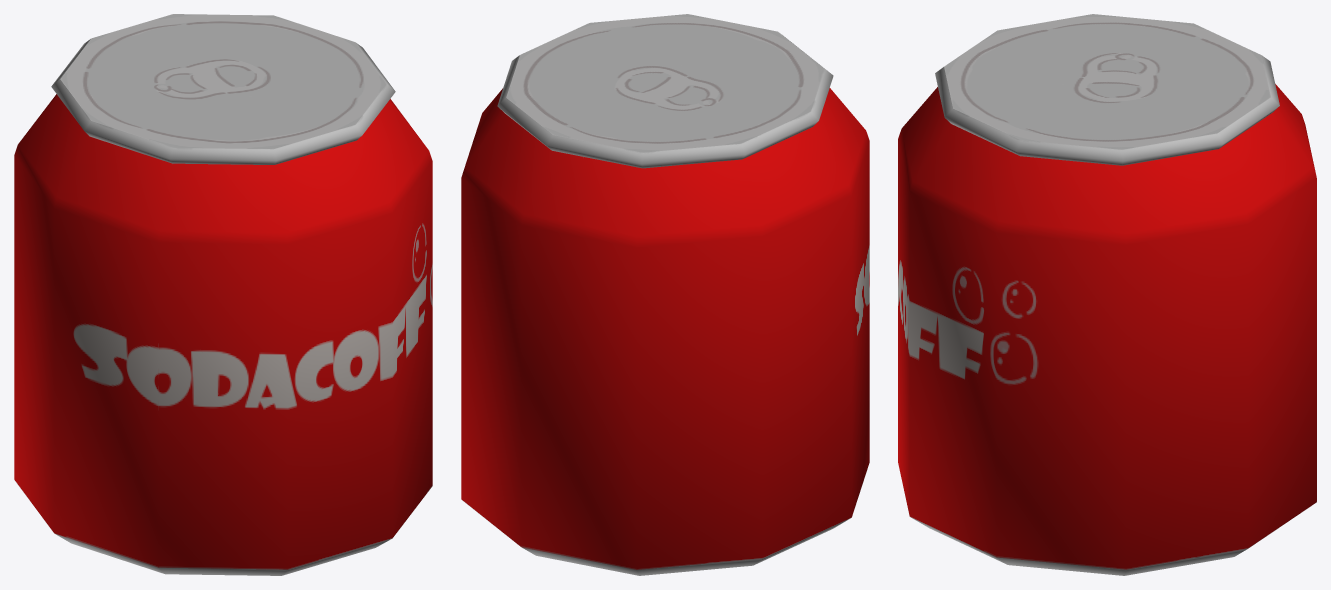
Rendered from SodaCan.fbx.
3 views of the same model, side by side, from view 1: azimuth 30°, elevation 25°; view 2: azimuth 150°, elevation 25°; view 3: azimuth 270°, elevation 25° (orthographic).
Parts seen in each view (by area): view 1: Soda can; view 2: Soda can; view 3: Soda can.
Part boxes in pixels (x1,y1,x2,y2): Soda can: (14, 14, 432, 575); Soda can: (461, 14, 869, 575); Soda can: (898, 14, 1316, 575).
Bounding box in the file's own units: 34.75 × 40.24 × 35.33.
1 material, 1 textured.
